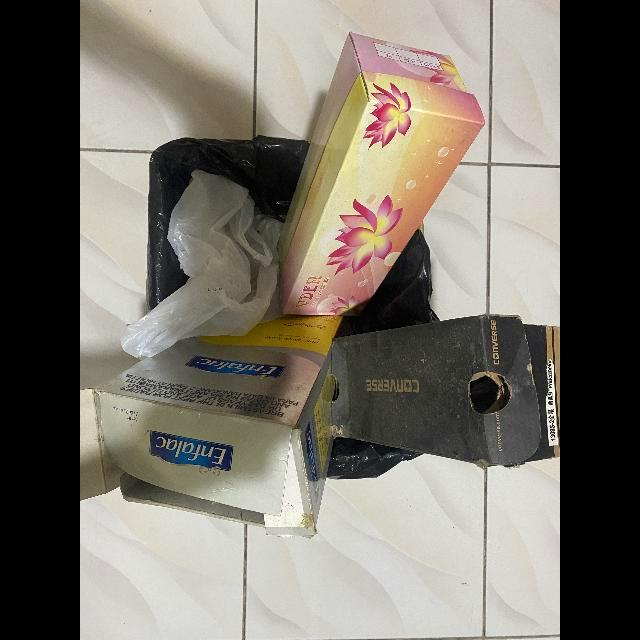cardboard: (80, 309, 345, 537), (276, 31, 485, 317), (332, 315, 560, 468)
plastic_bag: (120, 170, 284, 361)
